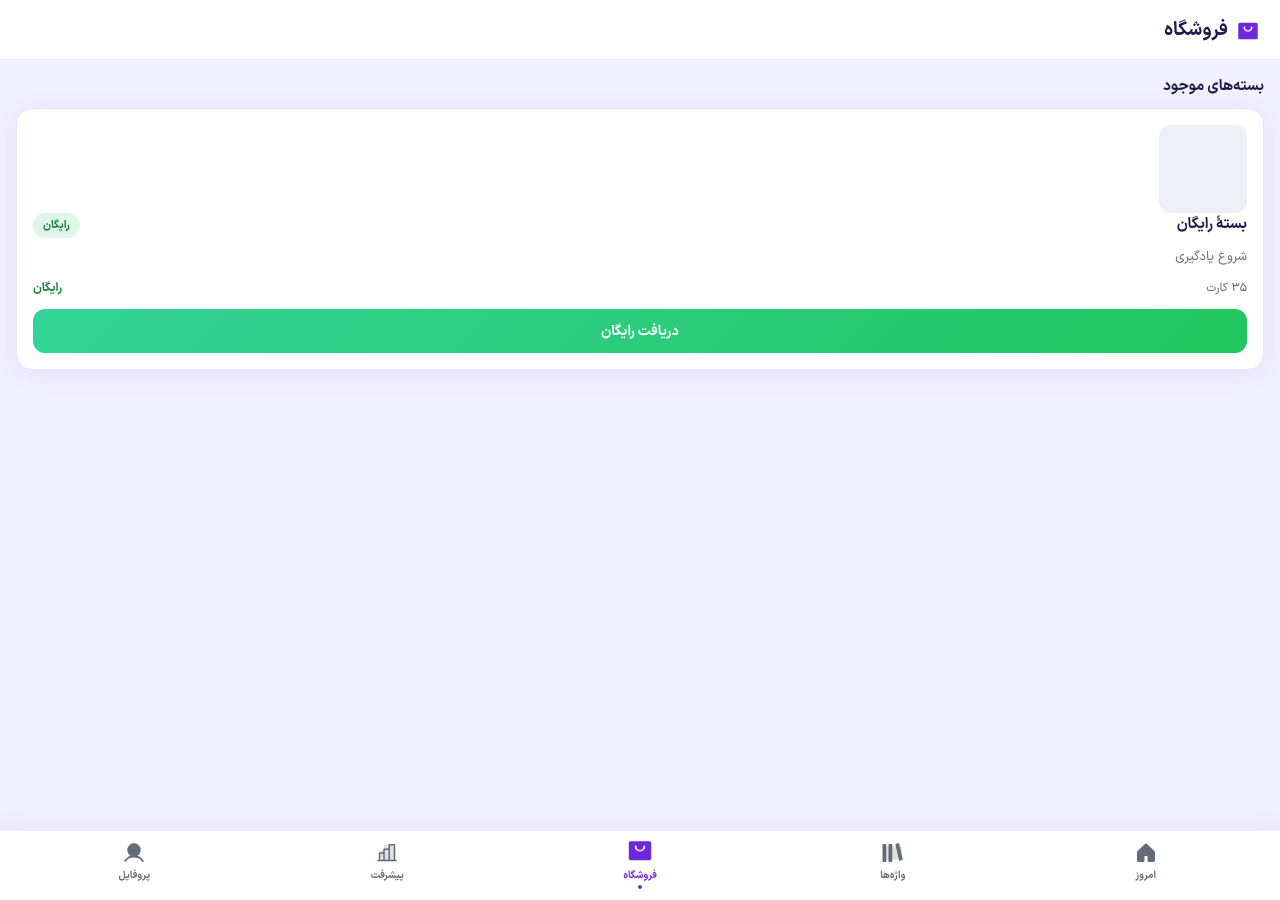
Test: M2.3 Store screen states › reports an already-owned pack as success, not as an error
Click the button "دریافت رایگان" at (640, 331), box [33, 309, 1247, 353]
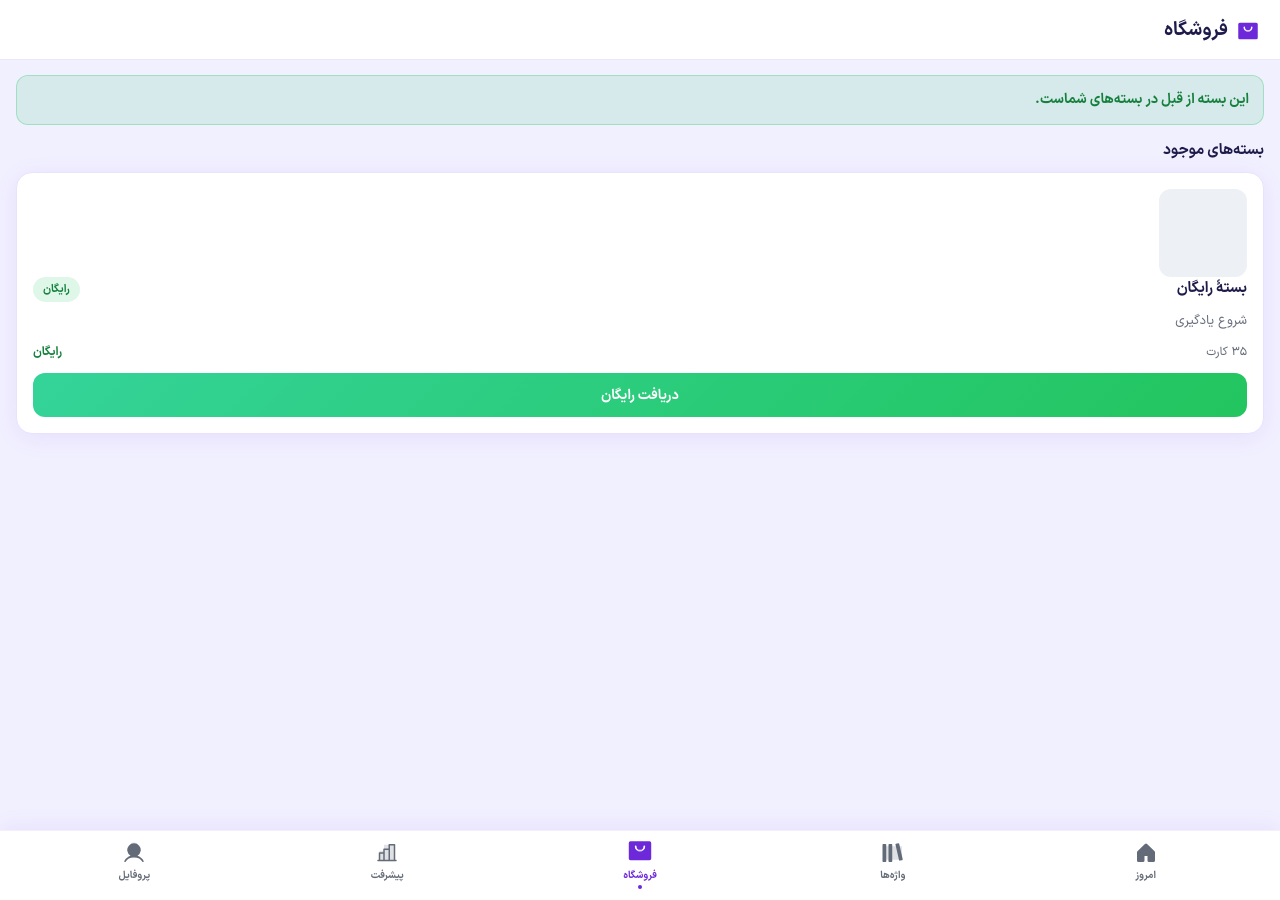
Result: the text "از قبل در بسته‌های شماست" is shown at [1035, 89, 1249, 110]
